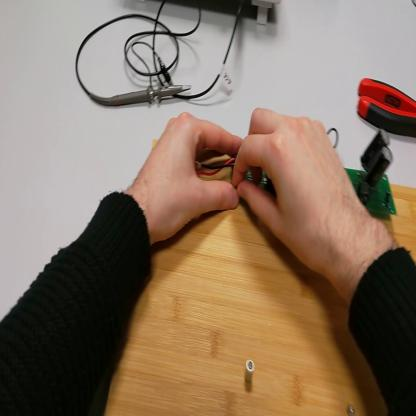hand: (234, 106, 359, 279), (140, 110, 241, 242)
high voltage board: (194, 128, 398, 214)
oscilloscope: (252, 1, 279, 23)
oscilloscope probe tip: (111, 88, 193, 108)
pliers: (358, 80, 416, 135)
working area: (88, 141, 416, 416)
